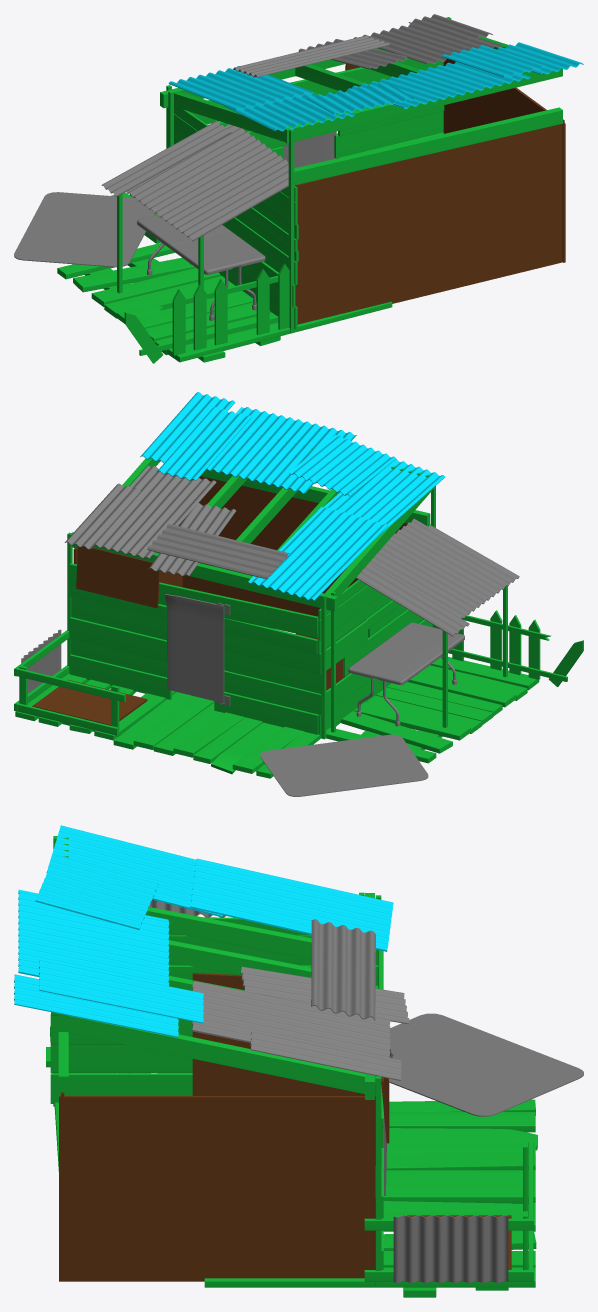
3 renders of one model, top to bottom at view 1: azimuth 30°, elevation 25°; view 2: azimuth 150°, elevation 25°; view 3: azimuth 270°, elevation 25°, orthographic. The views are drawn at different scales.
Visible parts, largest first — view 1: HV_muthafuggin_TL98:jimbohouse (×5); view 2: HV_muthafuggin_TL98:jimbohouse (×5); view 3: HV_muthafuggin_TL98:jimbohouse (×5).
Part boxes in pixels (<box>): HV_muthafuggin_TL98:jimbohouse (×5): <box>14,14,583,363</box>; HV_muthafuggin_TL98:jimbohouse (×5): <box>14,392,583,796</box>; HV_muthafuggin_TL98:jimbohouse (×5): <box>14,825,583,1297</box>.
Size of the model in its own units: 792 by 371 by 655.
